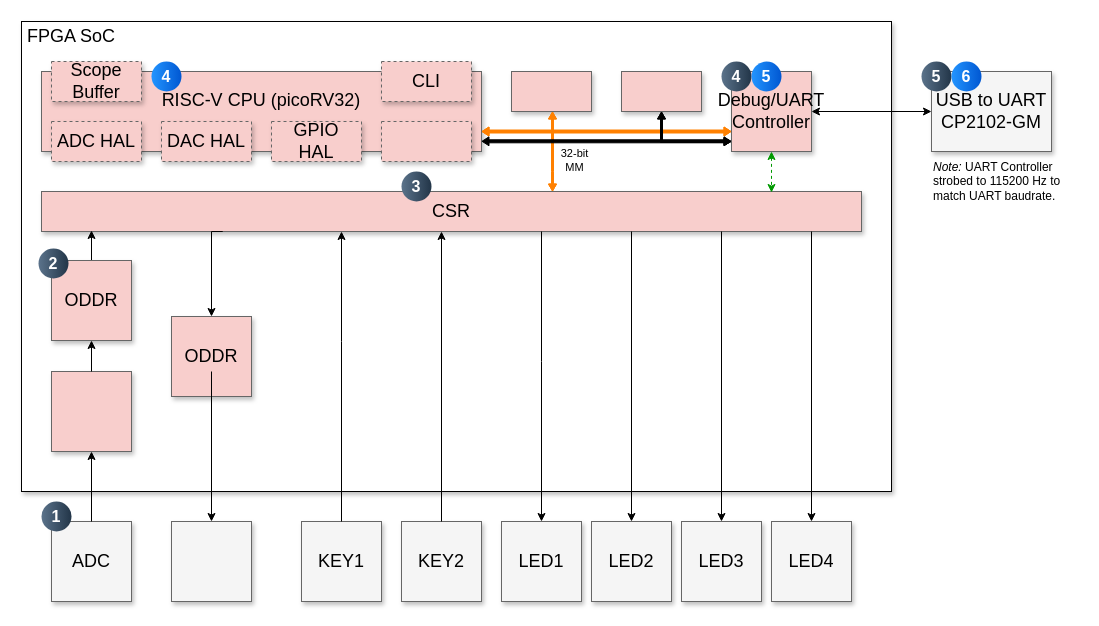
Image size: 1099x626. Some labels were removed from this diagram. Each missing label, with the centre of its shape:
"DAC" goes at point 212,562.
"DMEM" goes at point 552,92.
"IDDR" goes at point 92,412.
"IMEM" goes at point 662,92.
"UART HAL" goes at point 427,142.
